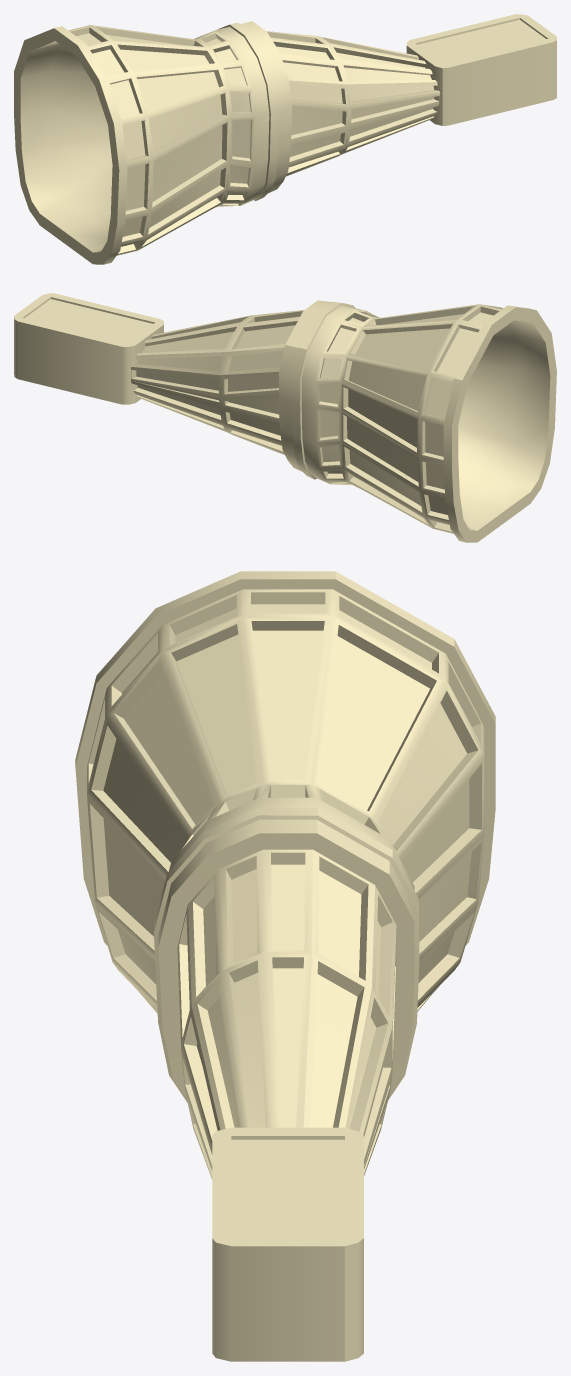
3 renders of one model, top to bottom at view 1: azimuth 30°, elevation 25°; view 2: azimuth 150°, elevation 25°; view 3: azimuth 270°, elevation 25°, orthographic. The views are drawn at different scales.
Parts seen in each view (by area): view 1: rb26_stock_2_reference.001_rb26_stock_2_reference.001_rb26_.000; view 2: rb26_stock_2_reference.001_rb26_stock_2_reference.001_rb26_.000; view 3: rb26_stock_2_reference.001_rb26_stock_2_reference.001_rb26_.000.
Boxes of the visible parts, left/top/right/bottom form: rb26_stock_2_reference.001_rb26_stock_2_reference.001_rb26_.000: left=14, top=14, right=556, bottom=264; rb26_stock_2_reference.001_rb26_stock_2_reference.001_rb26_.000: left=14, top=293, right=556, bottom=542; rb26_stock_2_reference.001_rb26_stock_2_reference.001_rb26_.000: left=75, top=571, right=495, bottom=1361.
Bounding box in the file's own units: 30.72 × 12.8 × 11.75.
